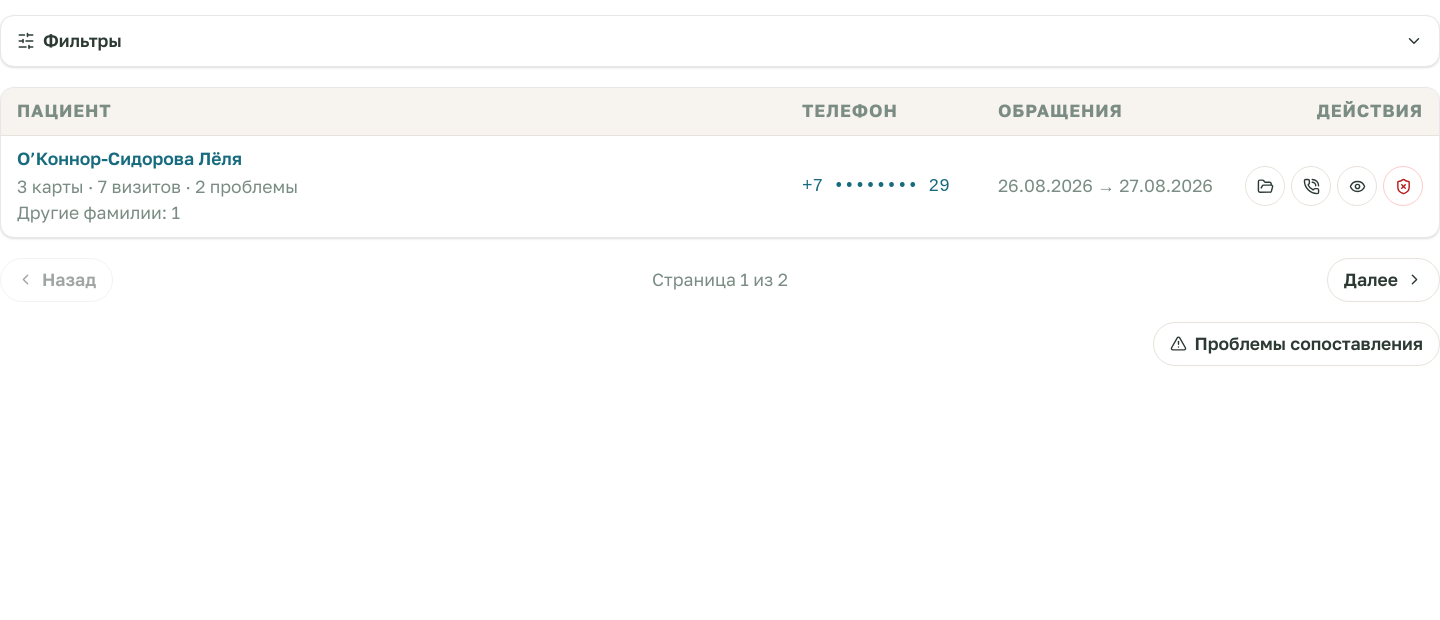
Test case: Patients admin view › loads the unresolved visit queue only when an administrator opens it
Check: the link "О’Коннор-Сидорова Лёля" is shown, box [17, 148, 242, 169]
Step 1. Click the button with aria-label "Показать проблемы сопоставления" → (1296, 344), box [1152, 322, 1439, 366]
(page scrolled)
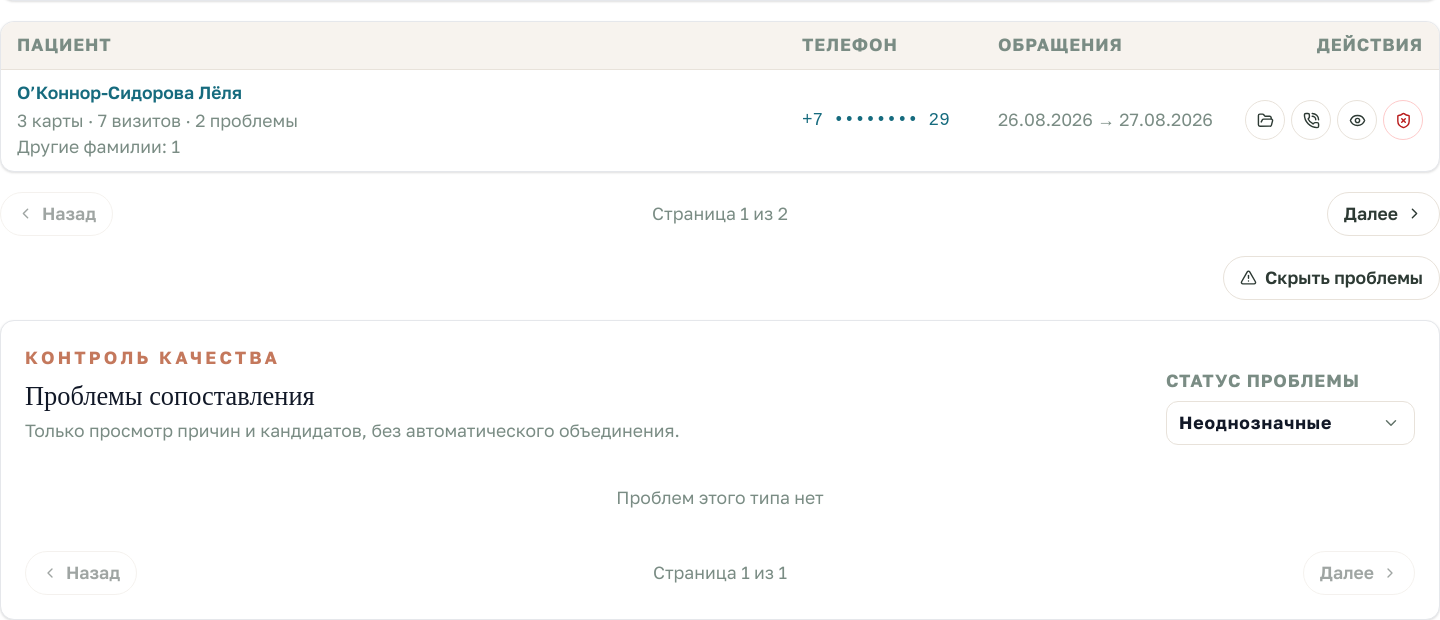
Check: the element named "Проблемы сопоставления визитов" is shown, box [0, 320, 1439, 619]
